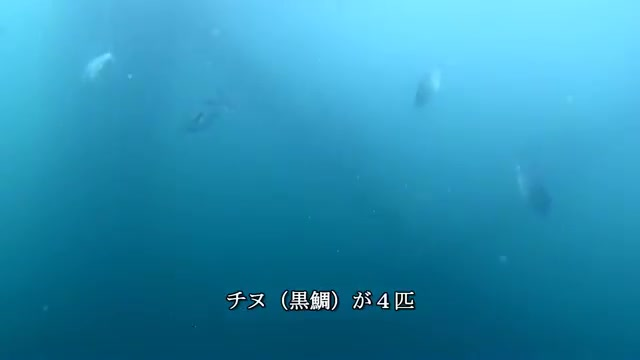smallfish: (506, 157, 563, 216), (406, 62, 455, 114)
